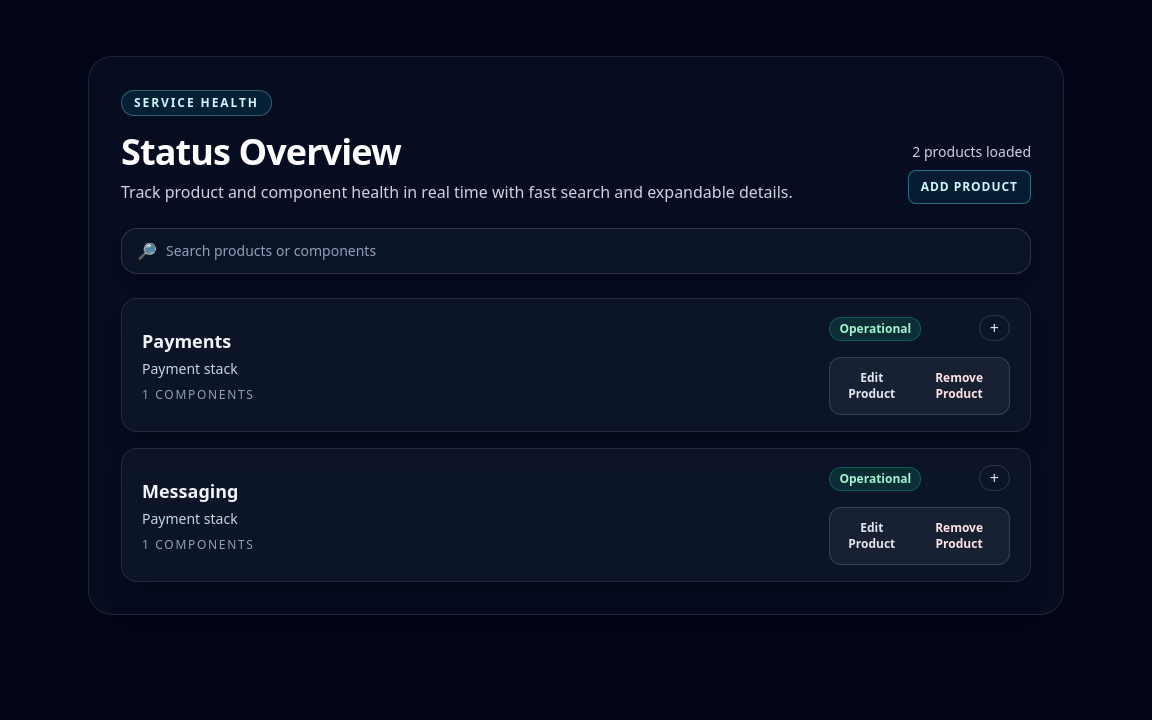
it: StatusPageComponent › performs debounced search and matches component names
Type "checkout" into the search field with id "status-search-input" at x=576, y=251, box [121,228,1031,274]
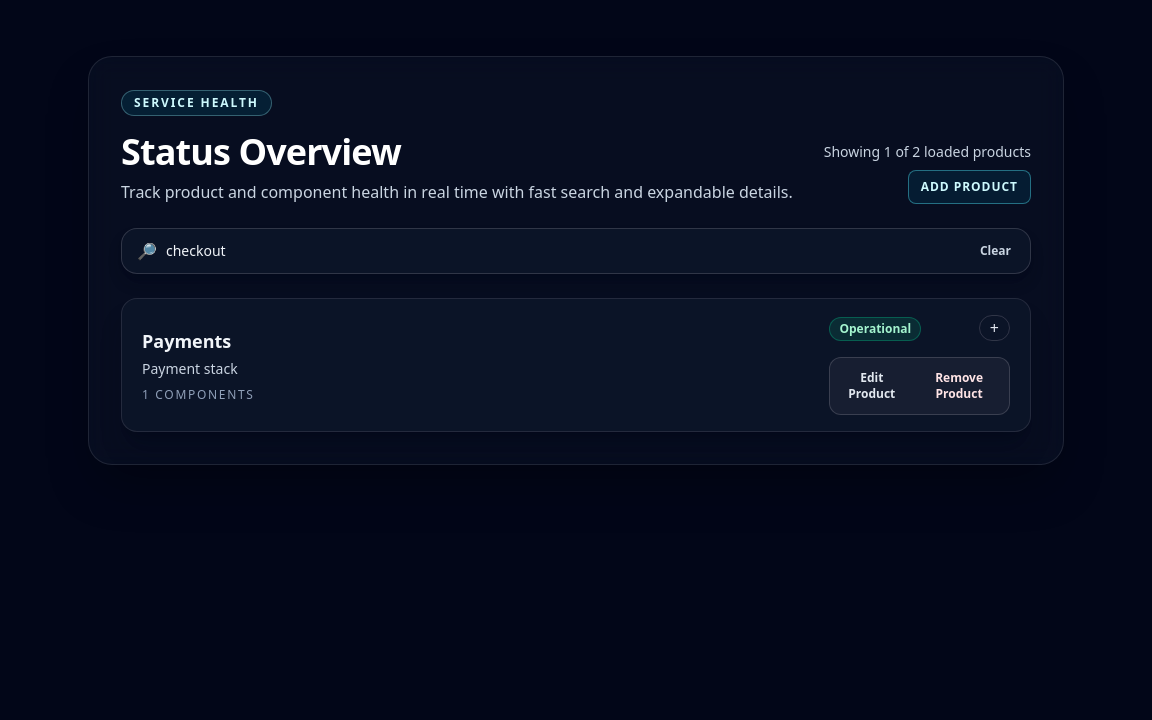
Expected: the text "Payments" is shown, [142,329,231,353]
Expected: the text "Messaging" is gone
